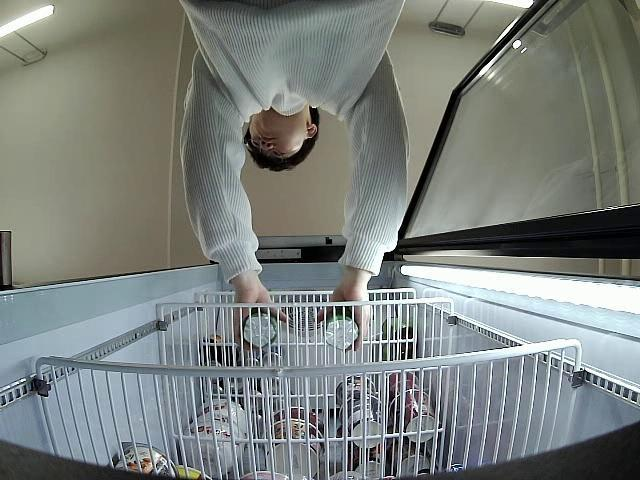18_trevi: (242, 310, 280, 350), (324, 313, 359, 350)
